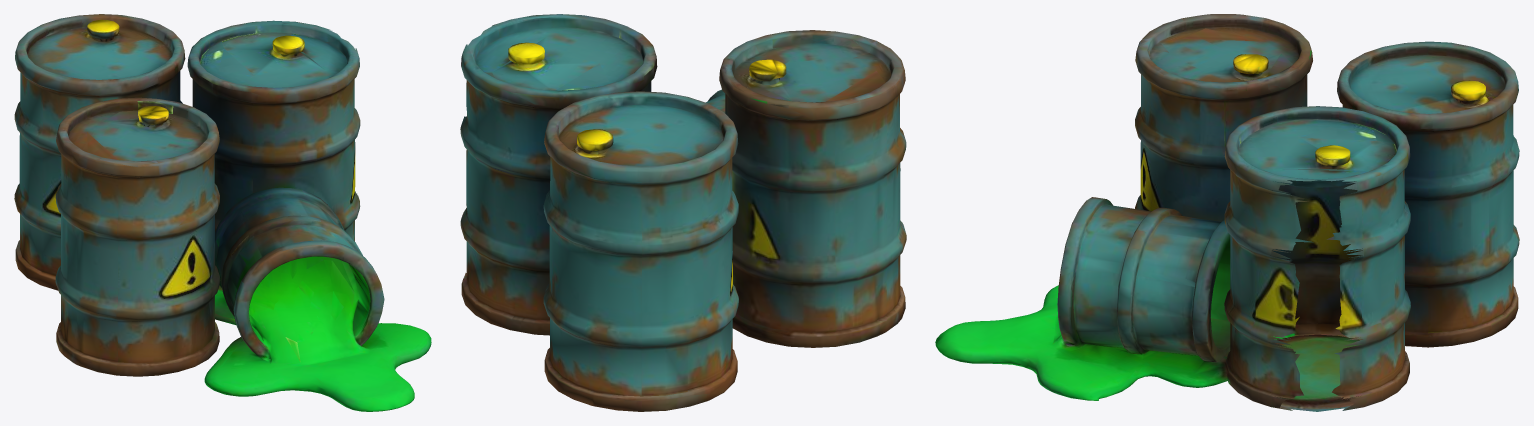
File: barrels.glb
3 views of the same model, side by side, from view 1: azimuth 30°, elevation 25°; view 2: azimuth 150°, elevation 25°; view 3: azimuth 270°, elevation 25° (orthographic). The views are drawn at different scales.
Parts seen in each view (by area): view 1: barrelpus_1; view 2: barrelpus_1; view 3: barrelpus_1.
Boxes of the visible parts, <box> form: barrelpus_1: <box>14,14,431,411</box>; barrelpus_1: <box>460,14,906,411</box>; barrelpus_1: <box>935,14,1519,411</box>.
Size of the model in its own units: 0.519 by 0.3347 by 0.7533.
Materials: 1 (1 with a texture image).
